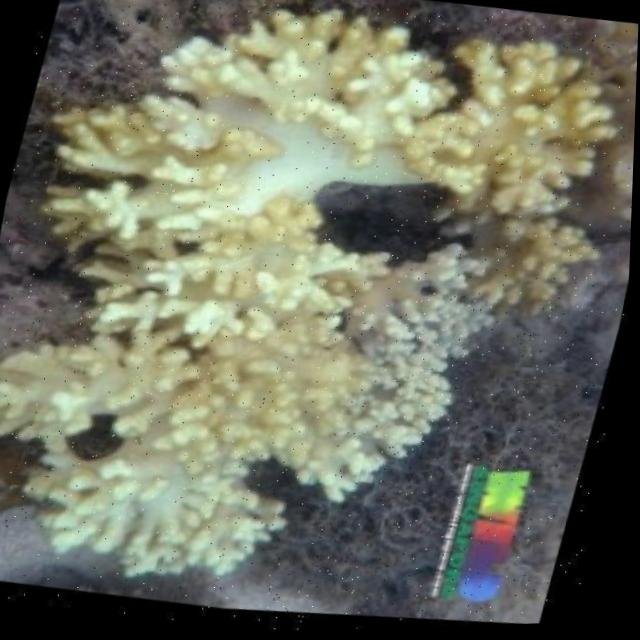Bleached Coral: (2, 0, 640, 396), (0, 214, 494, 640)
